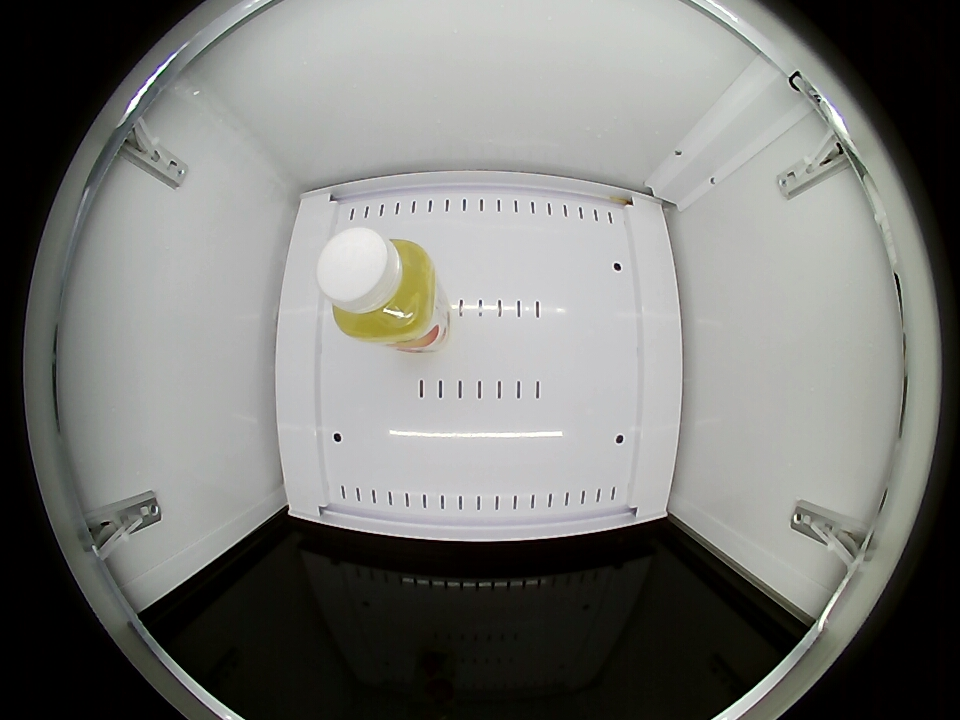chapai2: (318, 226, 436, 344)
